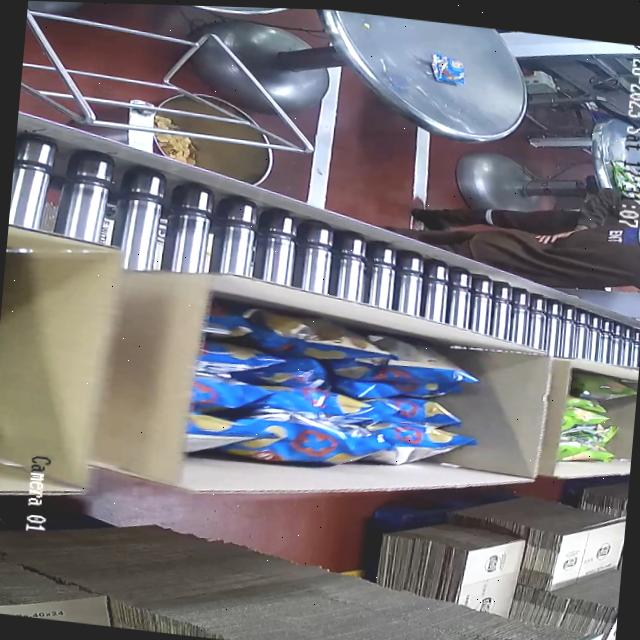PAPRIKA: (177, 309, 494, 476)
